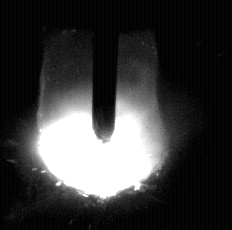arame: (92, 0, 116, 143)
poca: (37, 0, 171, 230)
